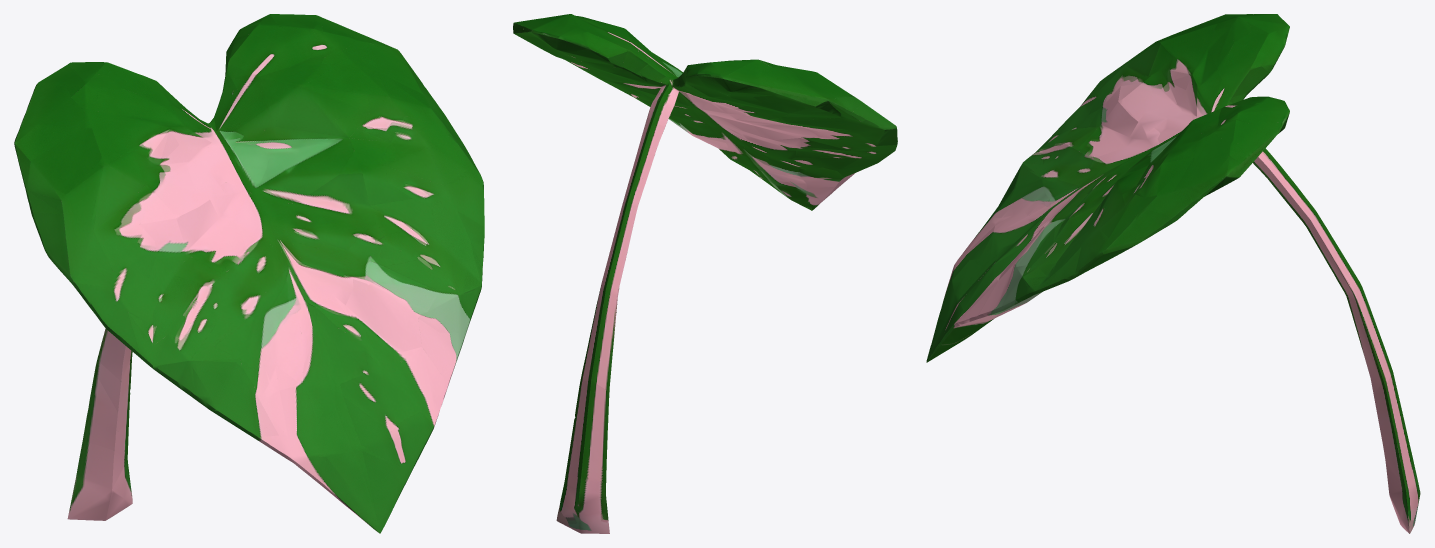
The model's file is pp_leaf_young.glb.
The picture shows the model from 3 angles, left to right: view 1: azimuth 30°, elevation 25°; view 2: azimuth 150°, elevation 25°; view 3: azimuth 270°, elevation 25°; orthographic projection. The views are drawn at different scales.
Size of the model in its own units: 1.57 by 1.9 by 1.85.
1 material, 1 textured.
